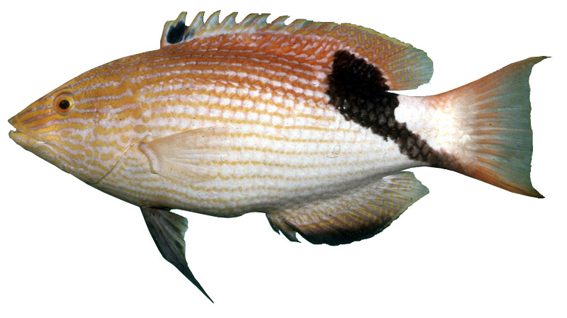fish: (8, 10, 552, 305)
